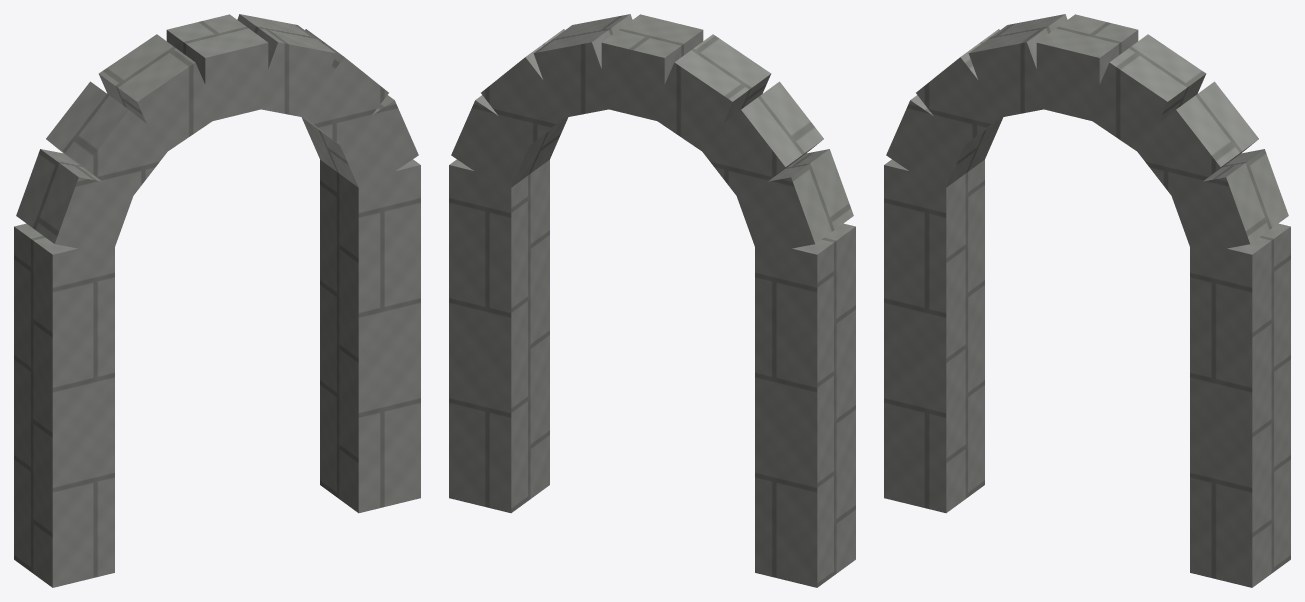
Rendered from archway.obj.
3 renders of one model, left to right at view 1: azimuth 30°, elevation 25°; view 2: azimuth 150°, elevation 25°; view 3: azimuth 330°, elevation 25°, orthographic.
Parts seen in each view (by area): view 1: archway; view 2: archway; view 3: archway.
Boxes of the visible parts, <box> form: archway: <box>14,14,420,587</box>; archway: <box>449,14,855,587</box>; archway: <box>884,14,1290,587</box>.
Size of the model in its own units: 3.85 by 4.93 by 0.7.
Materials: 1 (1 with a texture image).
